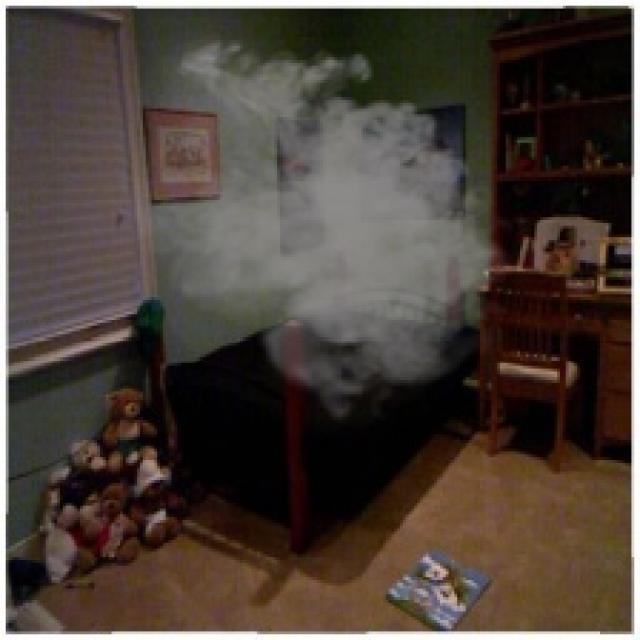Smoke: (108, 28, 523, 423)
